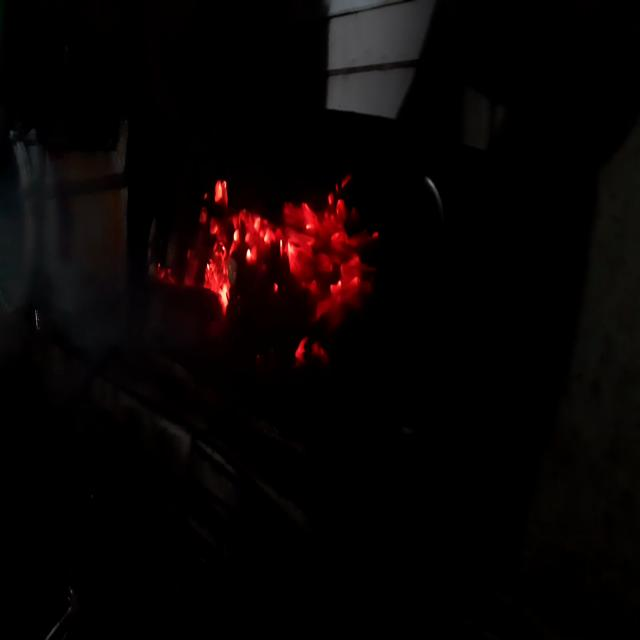Fire: (216, 159, 386, 350)
